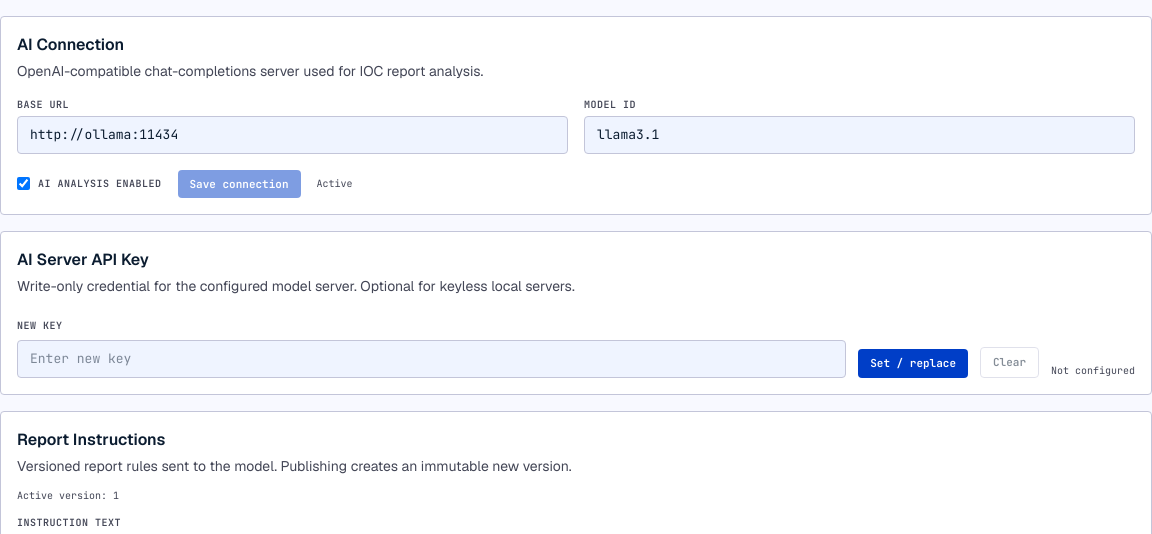
Test case: Admin AI settings section › keeps the draft when the connection save fails
In the field showing "http://ollama:11434": (292, 135) [17,116,568,154], type "http://other:8080"
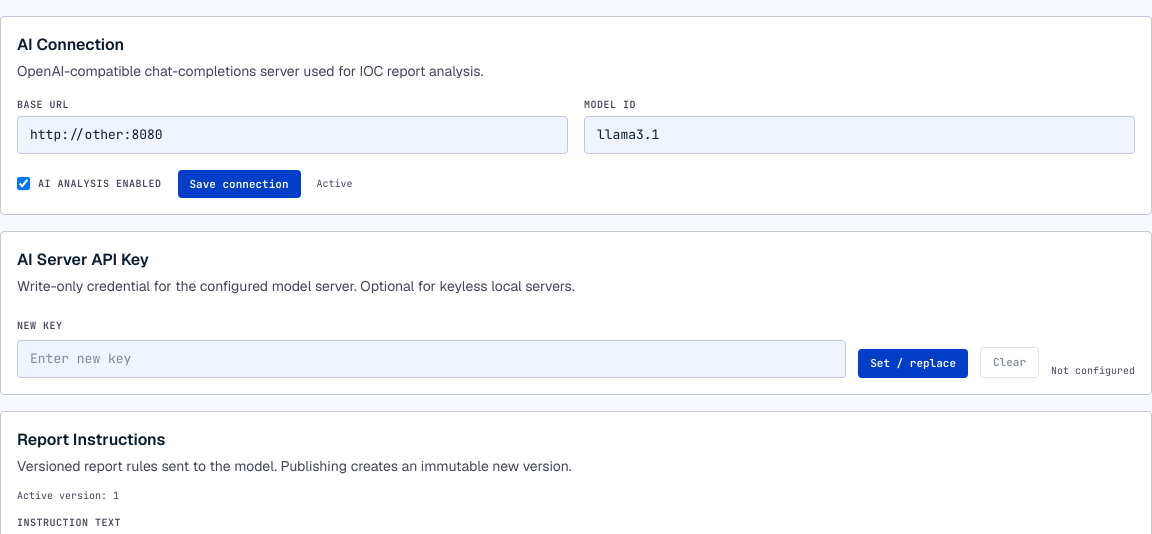
Click the button "Save connection": (239, 184) [178,170,300,198]
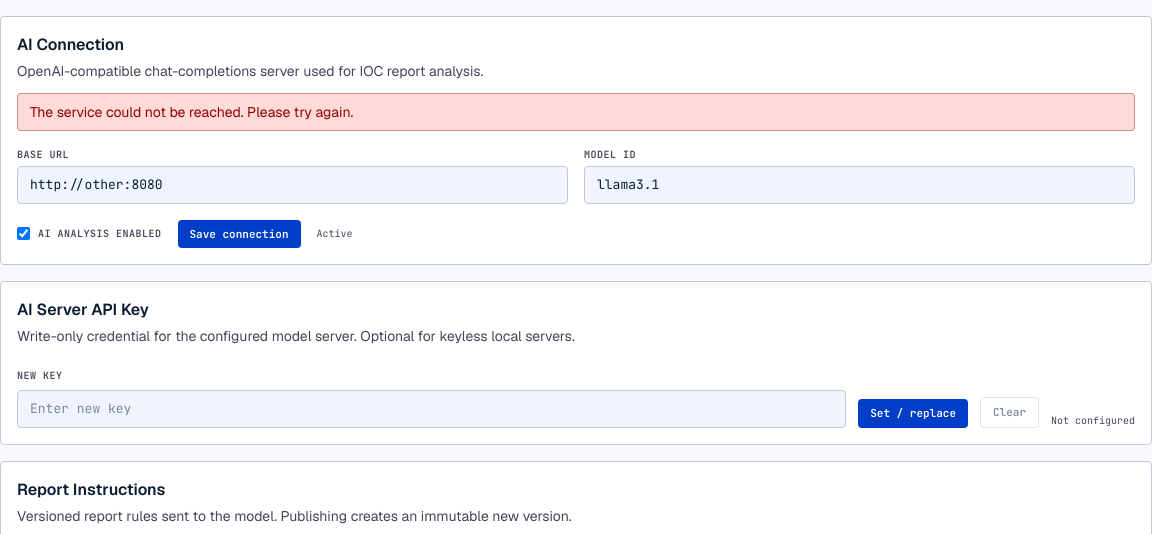
Check: the message "The service could not be reached. Please try again." is shown, box [17,93,1135,131]
